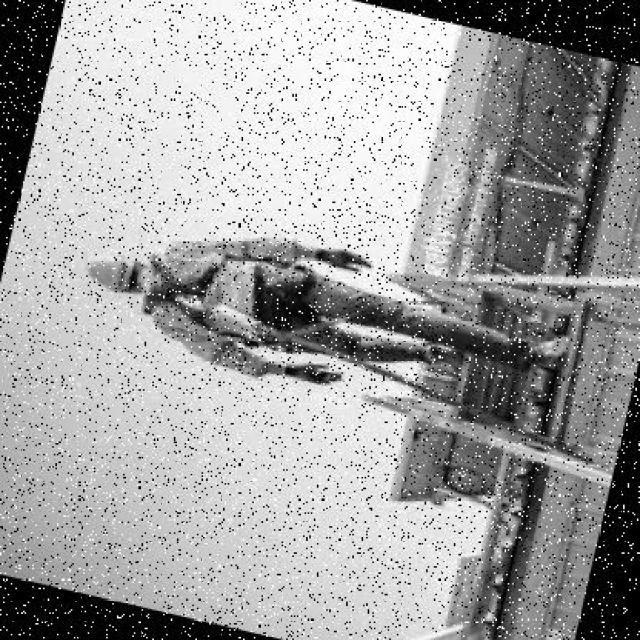Arnes_seguridad: (124, 228, 333, 361)
